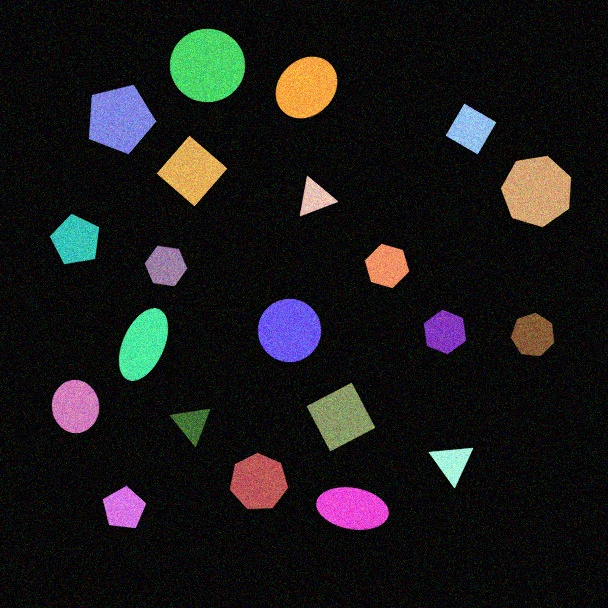Circulo: (169, 28, 246, 103), (257, 298, 322, 363), (51, 379, 100, 434)
Elipse: (275, 56, 338, 119), (118, 307, 169, 382), (315, 486, 390, 531)
Heptagono: (500, 155, 572, 228), (229, 452, 289, 510), (510, 312, 555, 357)
Hexagono: (364, 243, 410, 289), (423, 309, 467, 355), (144, 245, 188, 287)
Pentagono: (88, 84, 157, 155), (49, 213, 100, 265), (102, 485, 147, 529)
Quadrado: (156, 135, 228, 207), (306, 382, 376, 452), (445, 103, 497, 155)
Triangulo: (428, 447, 474, 489), (169, 408, 211, 448), (299, 175, 339, 217)
